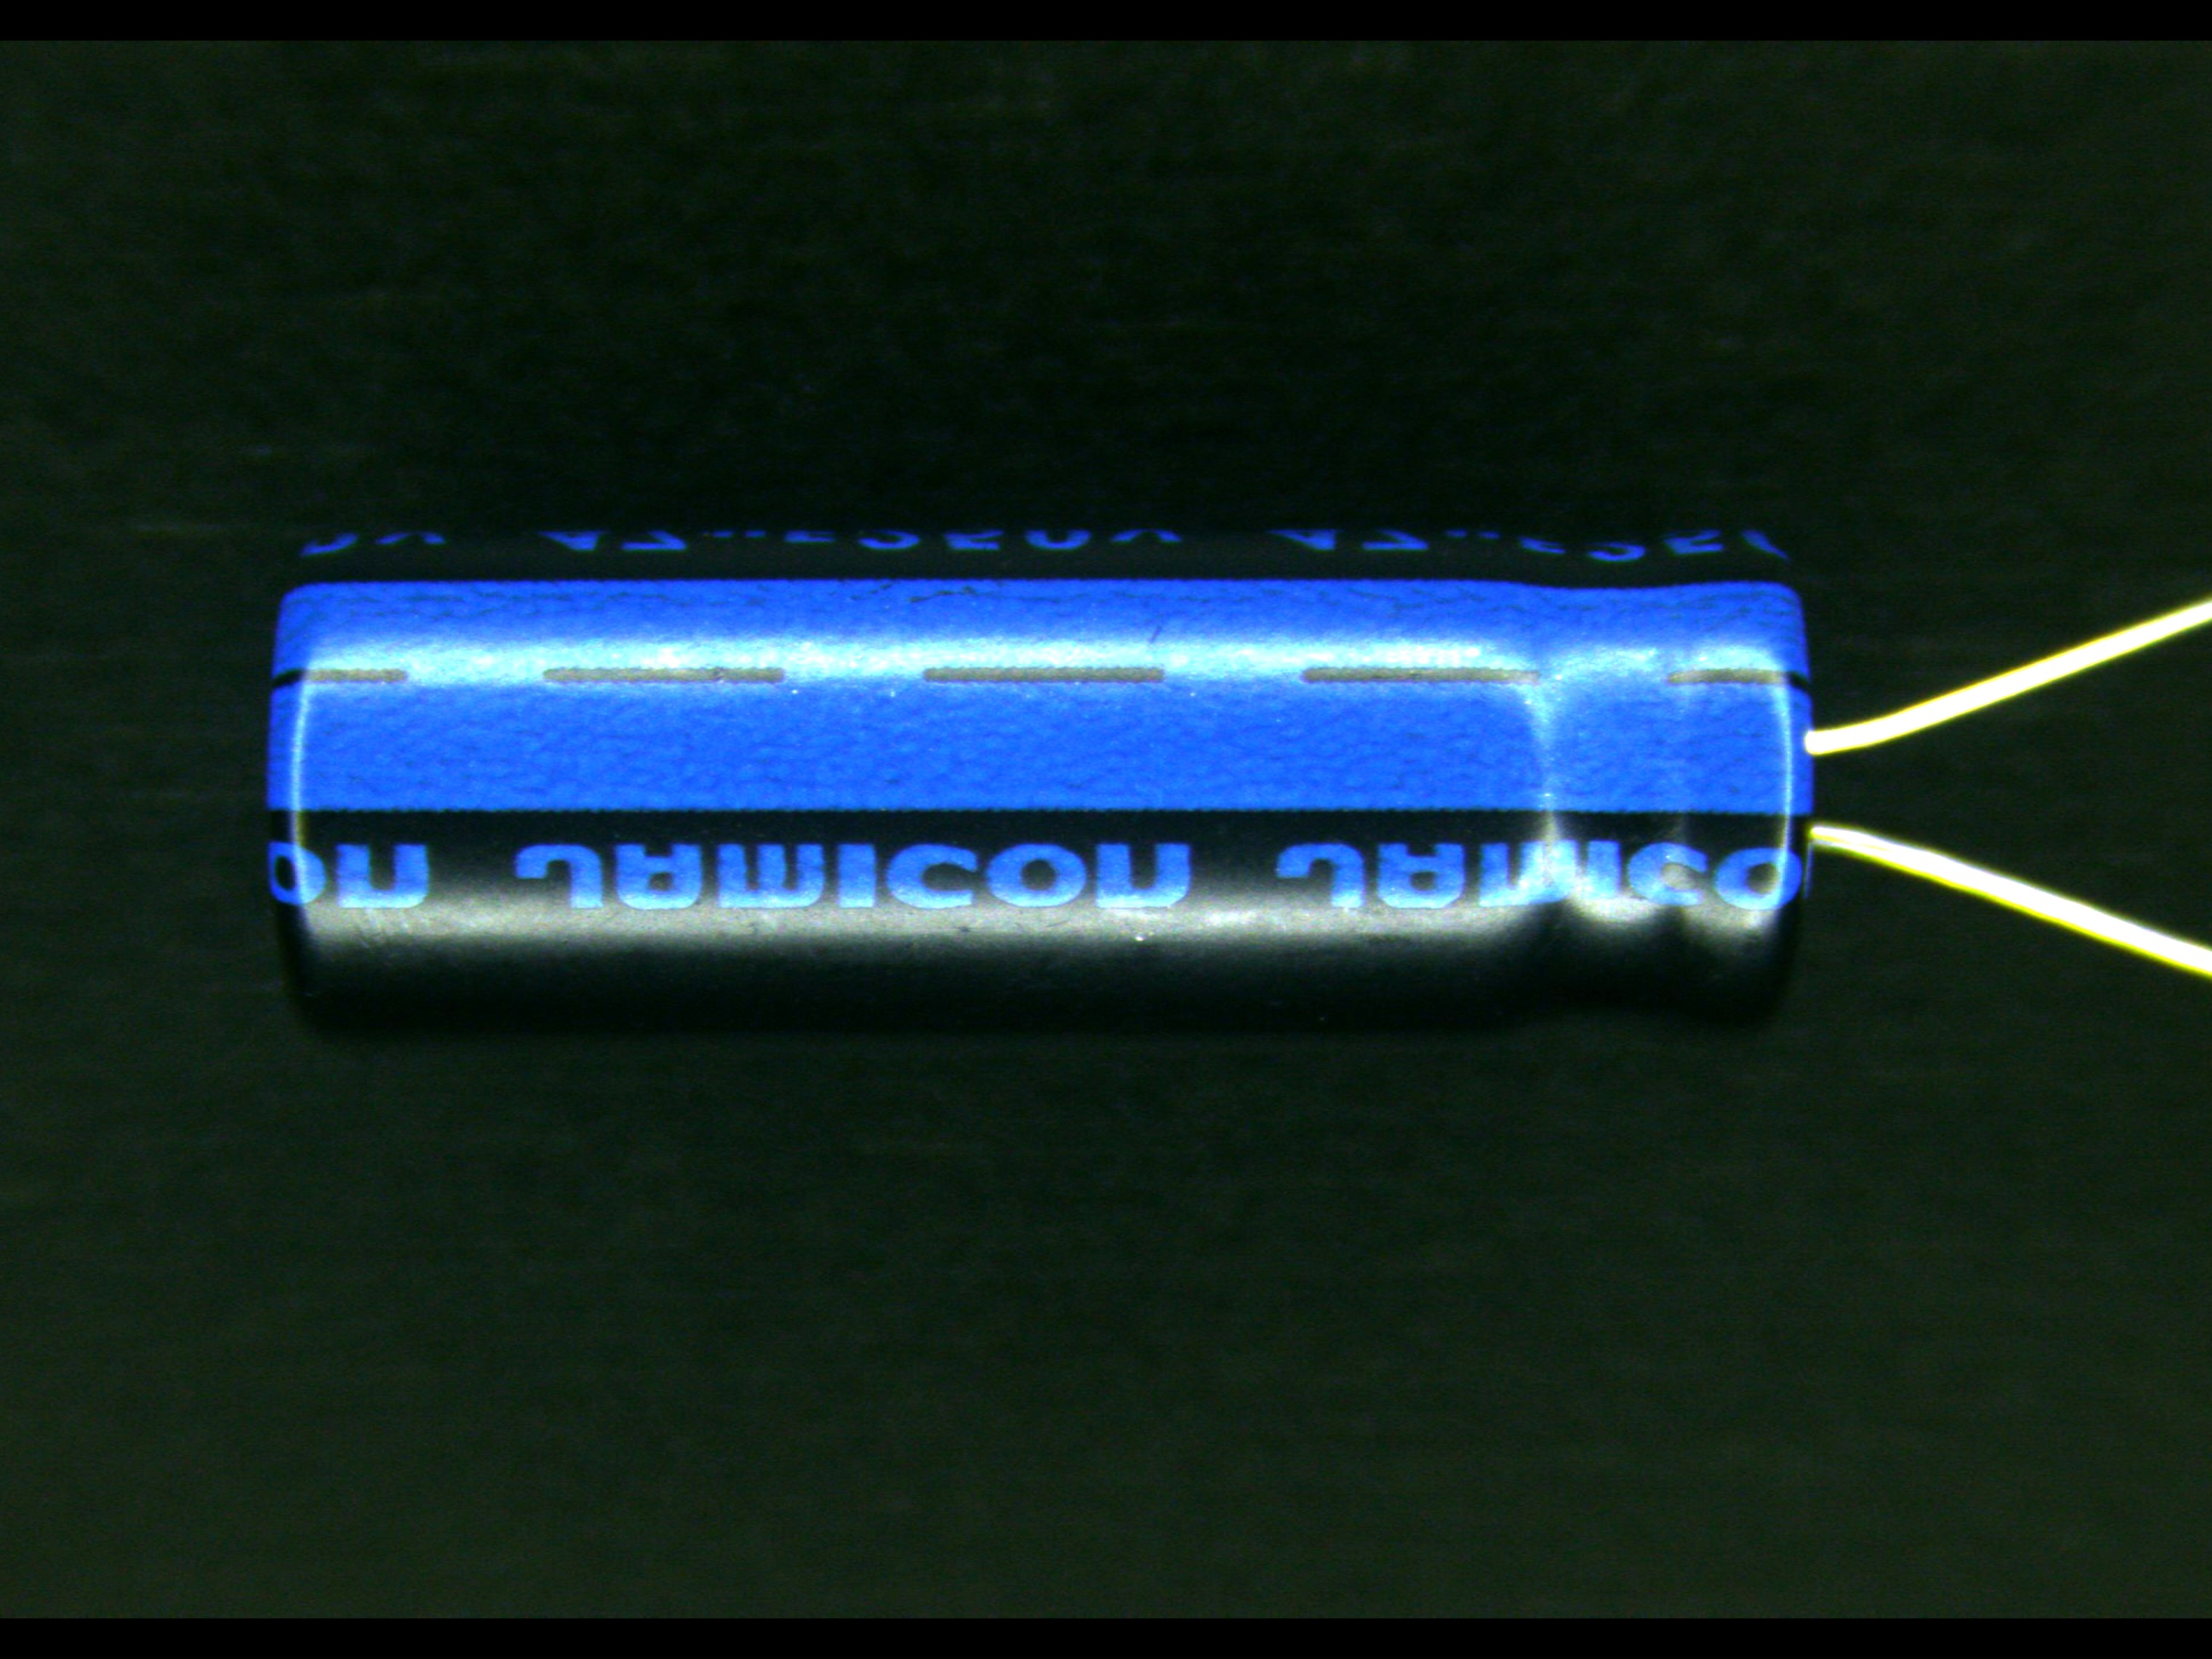c2: (256, 512, 2099, 1033)
